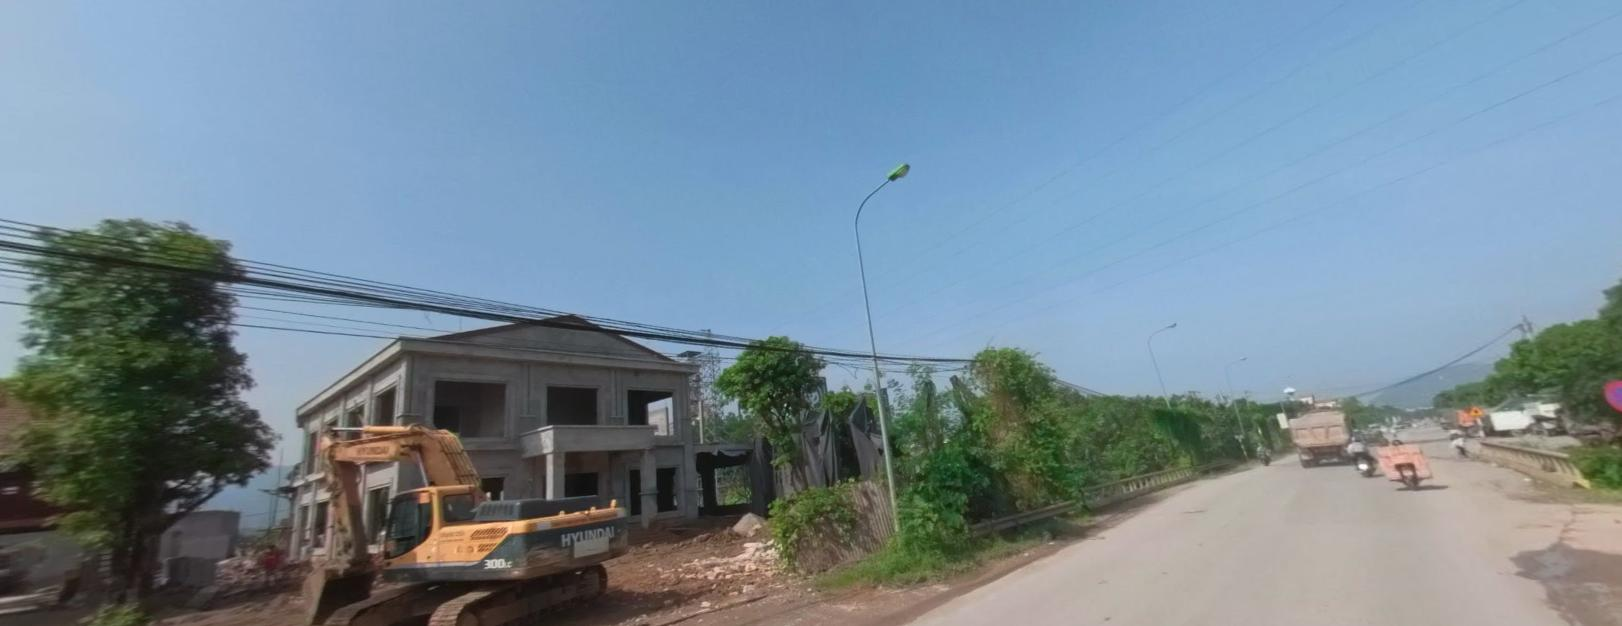Cam dung va do: (1601, 370, 1621, 419)
Nguy hiem: (1470, 405, 1484, 418)
